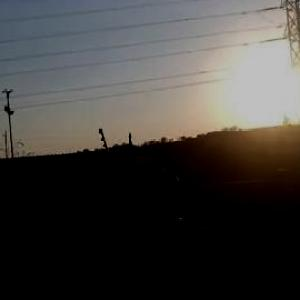follow: (126, 163, 228, 299)
